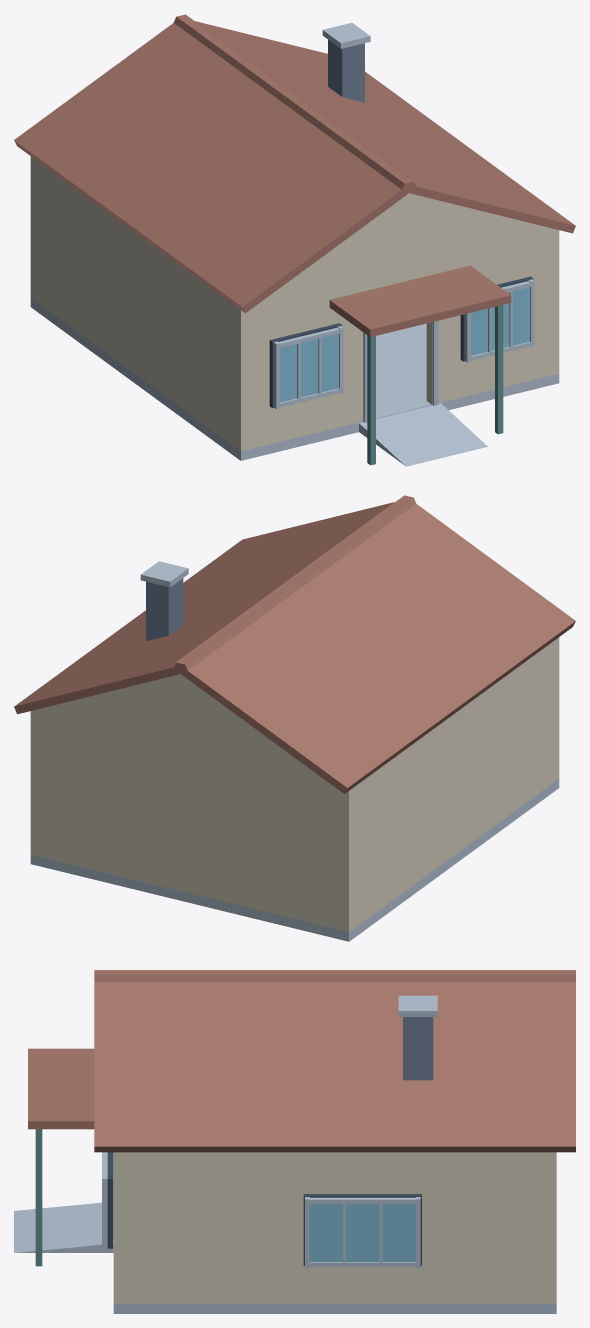
3 views of the same model, one above another, from view 1: azimuth 30°, elevation 25°; view 2: azimuth 150°, elevation 25°; view 3: azimuth 270°, elevation 25° (orthographic). The views are drawn at different scales.
Parts seen in each view (by area): view 1: Pitched roof, Wall left, Pitched roof.001, Wall front left, Wall front right, Plaster gables, House floor, Porch canopy, Entry ramp, Blue window pane, House ceiling, Blue window pane.001 (+9 smaller); view 2: Pitched roof, Wall rear, Wall left, Pitched roof.001, Plaster gables, House floor, House ceiling, Chimney, Roof ridge, Wall right, Chimney cap; view 3: Pitched roof.001, Wall right, Blue window pane.002, Porch canopy, House floor, Entry ramp, Pitched roof, Roof ridge, Chimney, Porch post.001, House ceiling, Chimney cap (+4 smaller).
Part boxes in pixels (bbox=[...]): Pitched roof: bbox=[14, 14, 416, 313]; Wall left: bbox=[30, 156, 249, 451]; Pitched roof.001: bbox=[173, 16, 575, 233]; Wall front left: bbox=[250, 277, 368, 448]; Wall front right: bbox=[426, 233, 549, 404]; Plaster gables: bbox=[274, 193, 544, 292]; House floor: bbox=[30, 298, 559, 460]; Porch canopy: bbox=[329, 265, 511, 337]; Entry ramp: bbox=[359, 403, 487, 466]; Blue window pane: bbox=[280, 334, 338, 402]; House ceiling: bbox=[258, 226, 559, 304]; Blue window pane.001: bbox=[471, 287, 529, 355]; Pitched roof: bbox=[173, 495, 575, 793]; Wall rear: bbox=[40, 714, 339, 929]; Wall left: bbox=[340, 637, 559, 932]; Pitched roof.001: bbox=[14, 497, 415, 714]; Plaster gables: bbox=[45, 674, 316, 773]; House floor: bbox=[30, 779, 559, 941]; House ceiling: bbox=[30, 707, 331, 785]; Chimney: bbox=[146, 578, 183, 641]; Roof ridge: bbox=[177, 495, 412, 668]; Wall right: bbox=[30, 712, 39, 856]; Chimney cap: bbox=[140, 561, 188, 587]; Pitched roof.001: bbox=[94, 970, 575, 1152]; Wall right: bbox=[113, 1153, 556, 1303]; Blue window pane.002: bbox=[309, 1204, 415, 1261]; Porch canopy: bbox=[28, 1048, 94, 1129]; House floor: bbox=[113, 1304, 556, 1313]; Entry ramp: bbox=[14, 1202, 113, 1252]; Pitched roof: bbox=[94, 974, 575, 981]; Roof ridge: bbox=[94, 970, 575, 974]; Chimney: bbox=[403, 1017, 433, 1080]; Porch post.001: bbox=[35, 1129, 42, 1266]; House ceiling: bbox=[113, 1152, 556, 1153]; Chimney cap: bbox=[398, 995, 437, 1016].
Size of the model in its own units: 3.69 by 2.74 by 5.08.
